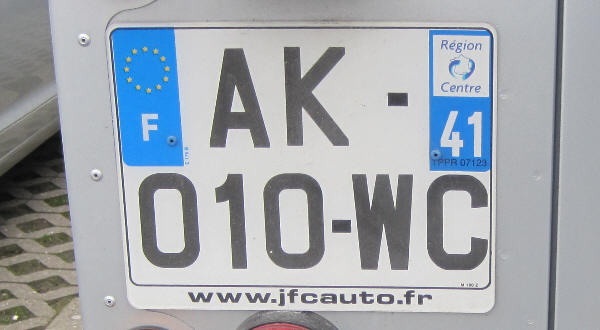license_plate: (108, 25, 499, 313)
